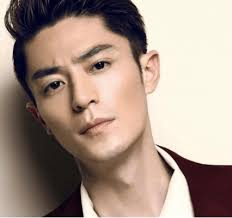eye: (84, 56, 116, 75), (40, 77, 67, 94)
mouth: (75, 117, 122, 137)
nose: (68, 96, 103, 112)
